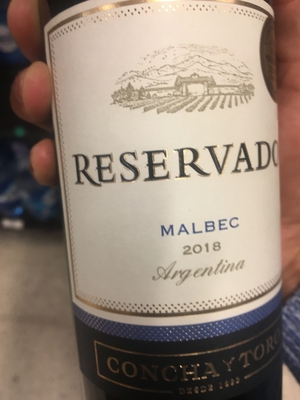reservado malbec: (41, 10, 285, 400)
